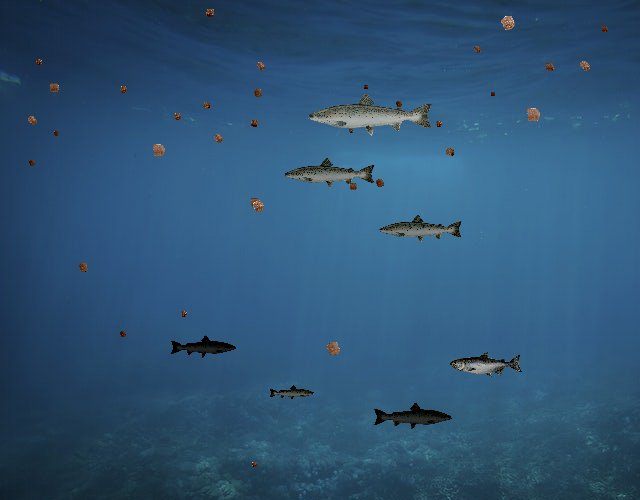Fish: (306, 91, 435, 137), (284, 157, 378, 190), (378, 213, 464, 244), (372, 402, 453, 431), (450, 351, 523, 377), (170, 335, 238, 359), (268, 384, 315, 401)
Pellet: (246, 194, 271, 219), (176, 307, 191, 322), (116, 327, 130, 341), (432, 117, 446, 131), (32, 55, 46, 69), (248, 459, 260, 471)
